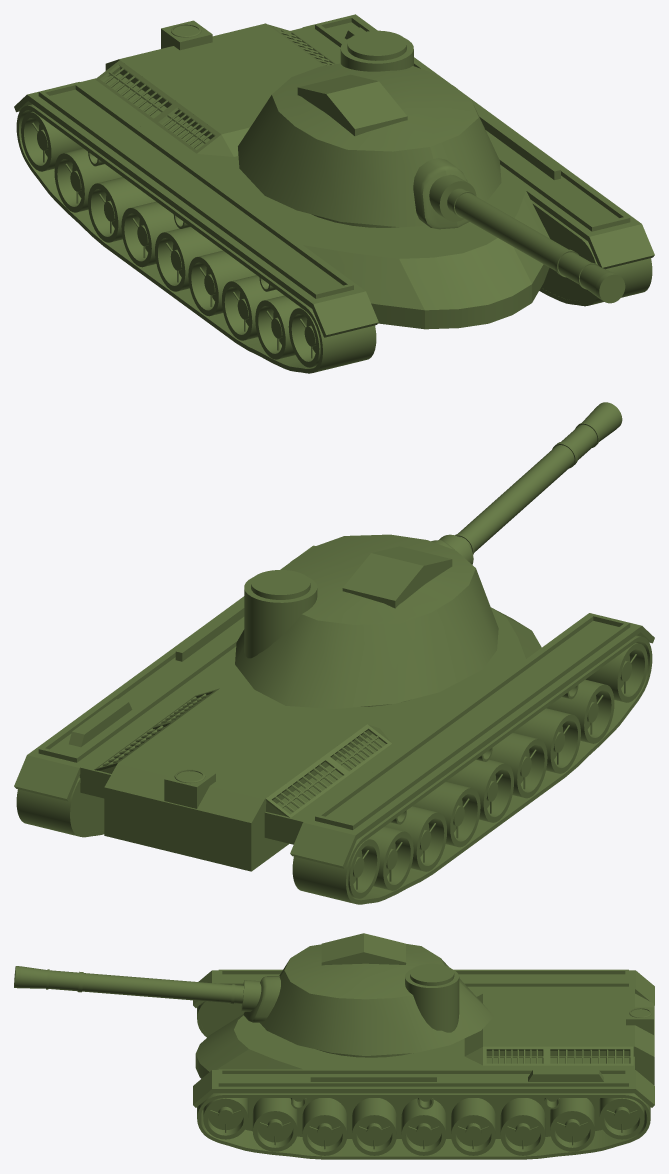
Rendered from PlayerModel_7.fbx.
3 renders of one model, top to bottom at view 1: azimuth 30°, elevation 25°; view 2: azimuth 150°, elevation 25°; view 3: azimuth 270°, elevation 25°, orthographic. The views are drawn at different scales.
Visible parts, largest first — view 1: Tank Base, Tank Head; view 2: Tank Base, Tank Head; view 3: Tank Base, Tank Head.
Part boxes in pixels (box(x1,y1,x2,y2)): Tank Base: box(14, 14, 654, 373); Tank Head: box(238, 30, 625, 303); Tank Base: box(14, 545, 654, 904); Tank Head: box(235, 402, 622, 708); Tank Base: box(193, 969, 654, 1159); Tank Head: box(14, 933, 493, 1055).
Bounding box in the file's own units: 373 × 219 × 850.
